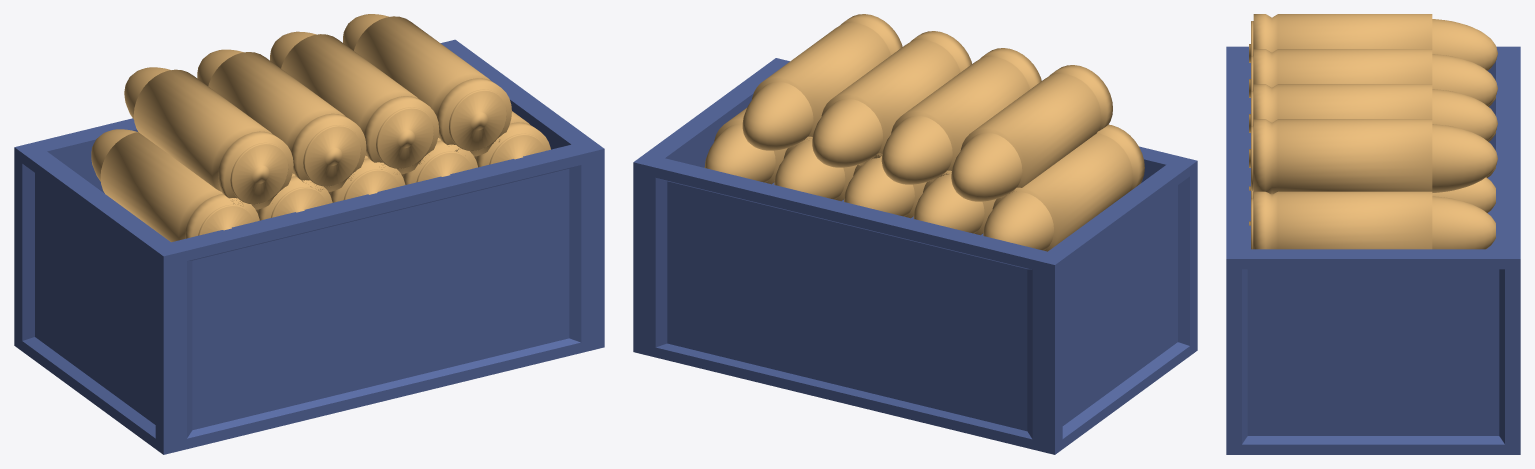
Rendered from Ammo.fbx.
3 renders of one model, left to right at view 1: azimuth 30°, elevation 25°; view 2: azimuth 150°, elevation 25°; view 3: azimuth 270°, elevation 25°, orthographic. The views are drawn at different scales.
Parts seen in each view (by area): view 1: Cube; view 2: Cube; view 3: Cube.
Boxes of the visible parts, x1,y1,x2,y2 form: Cube: (14,14,604,454); Cube: (633,14,1197,454); Cube: (1226,14,1520,454).
Size of the model in its own units: 465 by 283 by 272.
